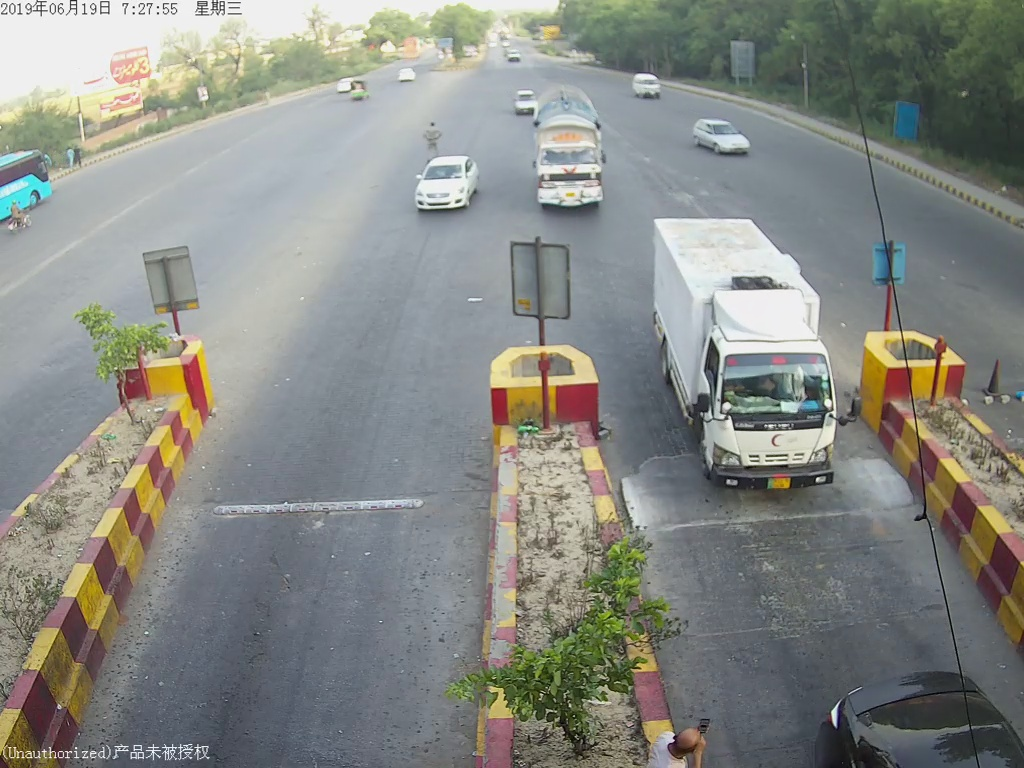Cat-1: (412, 160, 479, 214)
Cat-4: (648, 219, 860, 509), (531, 91, 609, 216)
